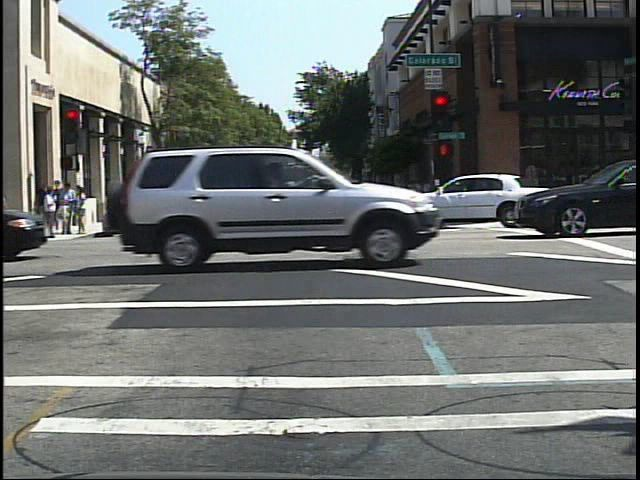person: (118, 181, 138, 223)
